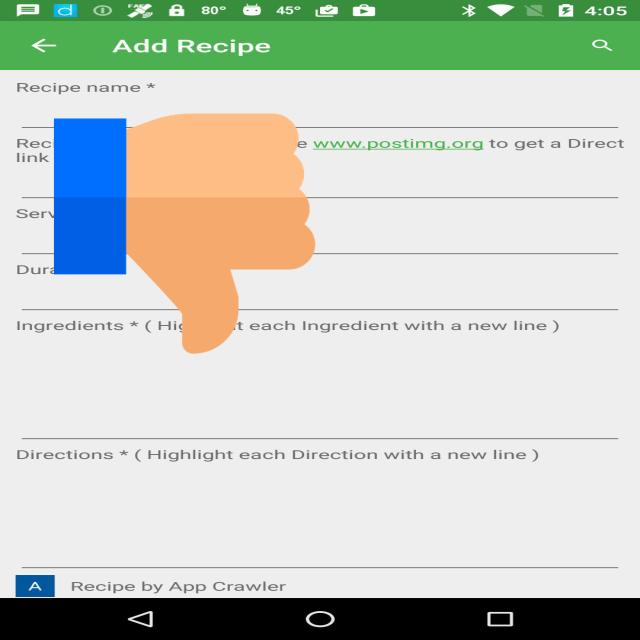obstruction: (54, 108, 315, 360)
